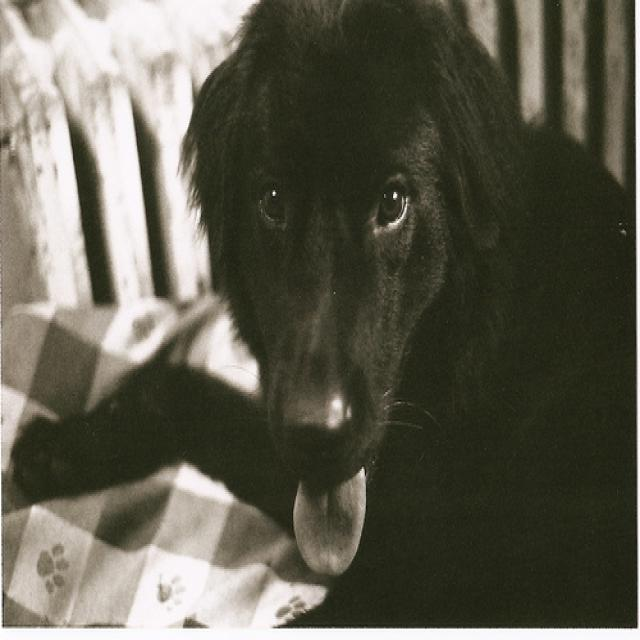dog: (192, 0, 512, 578)
